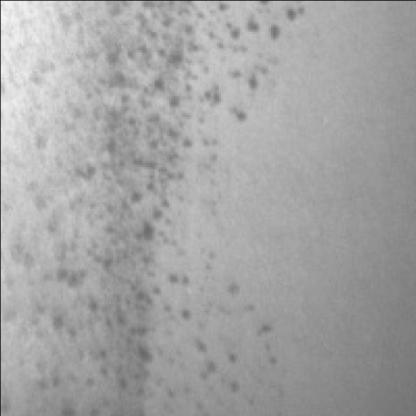pitted_surface: (33, 6, 302, 416)
